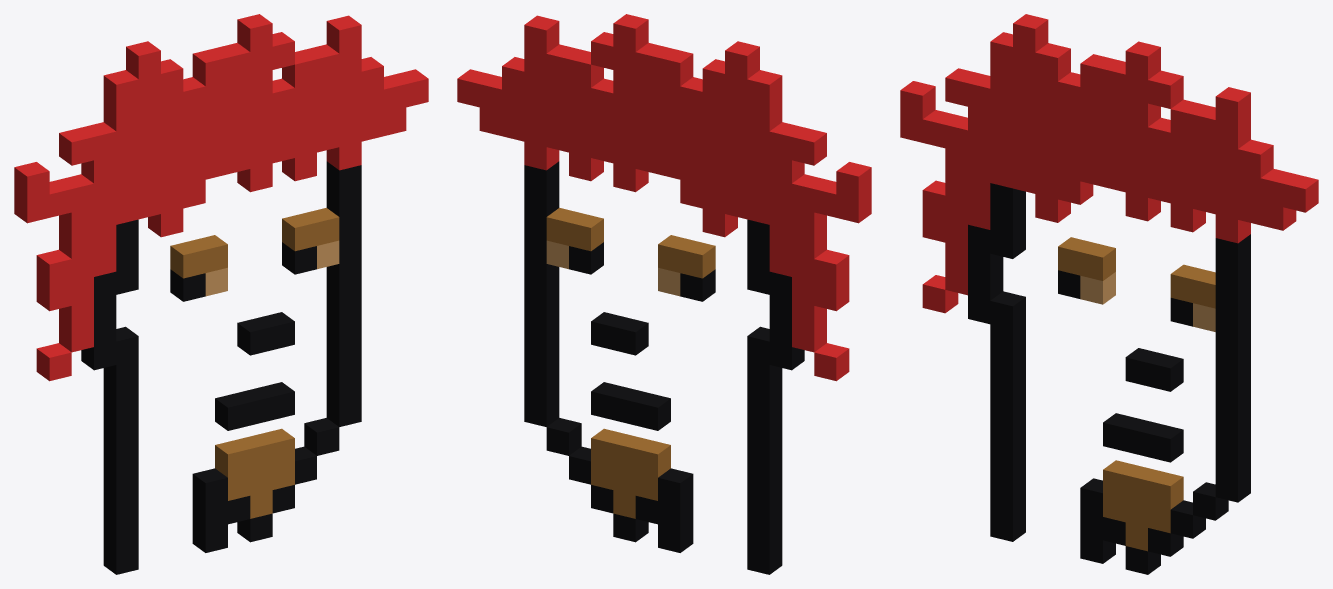
3 views of the same model, side by side, from view 1: azimuth 30°, elevation 25°; view 2: azimuth 150°, elevation 25°; view 3: azimuth 330°, elevation 25° (orthographic).
Visible parts, largest first — view 1: NoPunk_5671_Mesh; view 2: NoPunk_5671_Mesh; view 3: NoPunk_5671_Mesh.
Boxes of the visible parts, x1=… form: NoPunk_5671_Mesh: x1=14, y1=14, x2=428, y2=574; NoPunk_5671_Mesh: x1=457, y1=14, x2=871, y2=574; NoPunk_5671_Mesh: x1=900, y1=14, x2=1318, y2=574.
Bounding box in the file's own units: 18 × 22 × 1.
